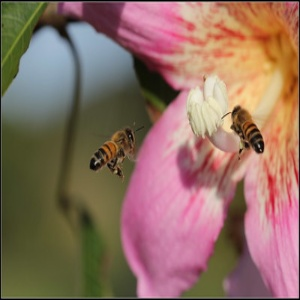bee: (89, 120, 148, 187), (220, 104, 266, 166)
